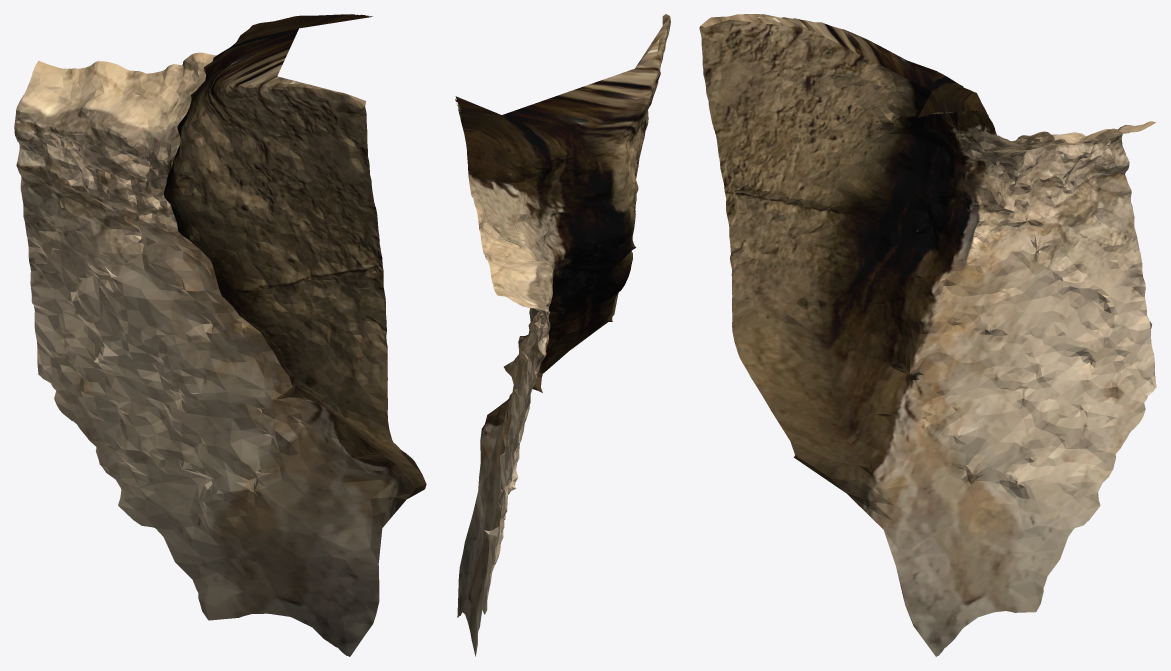
The model's file is tile_3_0.obj.
3 views of the same model, side by side, from view 1: azimuth 30°, elevation 25°; view 2: azimuth 150°, elevation 25°; view 3: azimuth 270°, elevation 25° (orthographic). The views are drawn at different scales.
Visible parts, largest first — view 1: texture_0; view 2: texture_0; view 3: texture_0.
Boxes of the visible parts, <box> form: texture_0: <box>14,14,426,656</box>; texture_0: <box>455,14,670,656</box>; texture_0: <box>699,14,1156,656</box>.
Size of the model in its own units: 0.2129 by 0.589 by 0.4179.
Materials: 1 (1 with a texture image).
